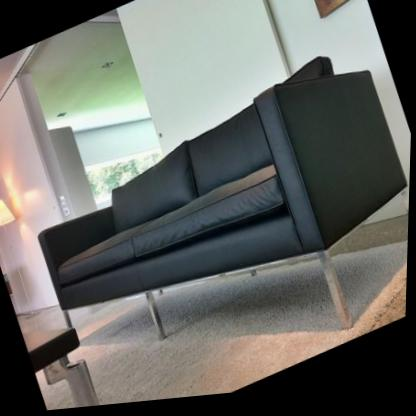Carpet: (72, 307, 352, 408)
Sofa: (14, 37, 414, 414)
